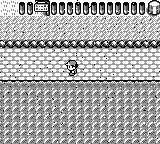leer: (34, 0, 50, 16)
main: (65, 61, 78, 75)
no-caminable: (1, 81, 159, 143), (50, 2, 145, 15), (146, 0, 159, 16), (19, 2, 33, 15)
